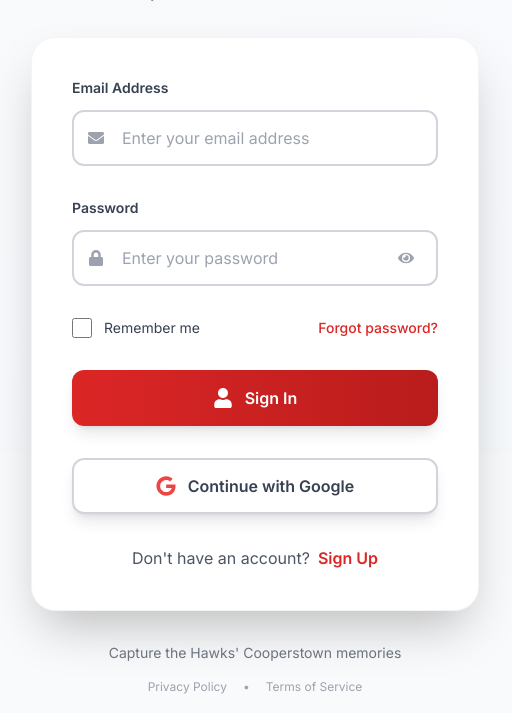
Test case: Authentication Flows › Form Toggle › should switch between sign in and sign up
(page scrolled)
Expected: the button "Sign In" is shown, [72,370,438,426]
Expected: the button "Forgot password?" is shown, [318,318,438,338]
# Switch to sign up
What coordinates should you click on to do the following:
click the button "Sign Up"
I would click on:
 (348, 558)
Its box is [318,546,378,570].
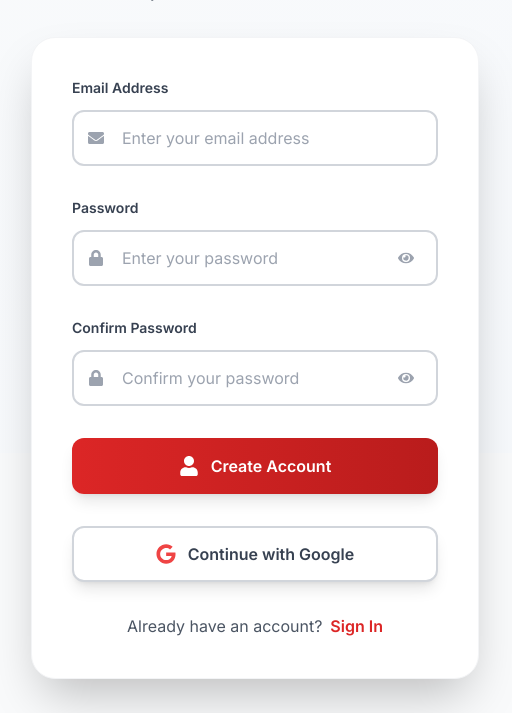
Expected: the button "Create Account" is shown, [72,438,438,494]
Expected: the button "Forgot password?" is gone
# Switch back to sign in
What coordinates should you click on to do the following:
click the button "Sign In"
I would click on:
 (357, 626)
Its box is [330,614,383,638].
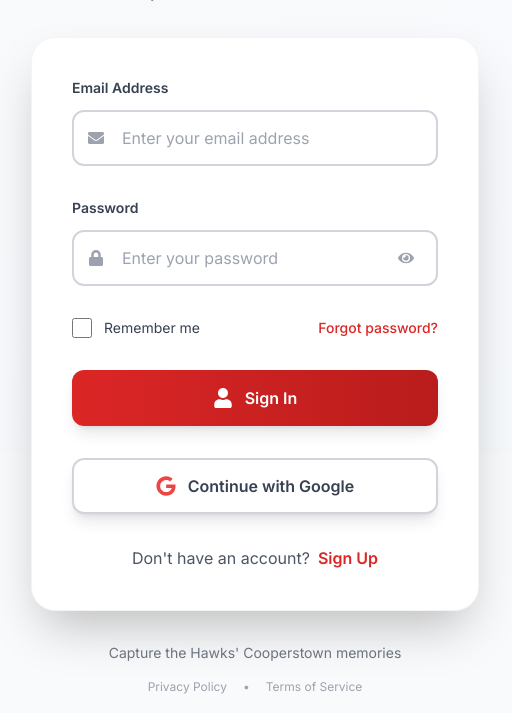
Expected: the button "Sign In" is shown, [72,370,438,426]
Expected: the button "Forgot password?" is shown, [318,318,438,338]
